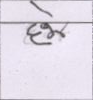e_matra: (31, 1, 56, 21)
